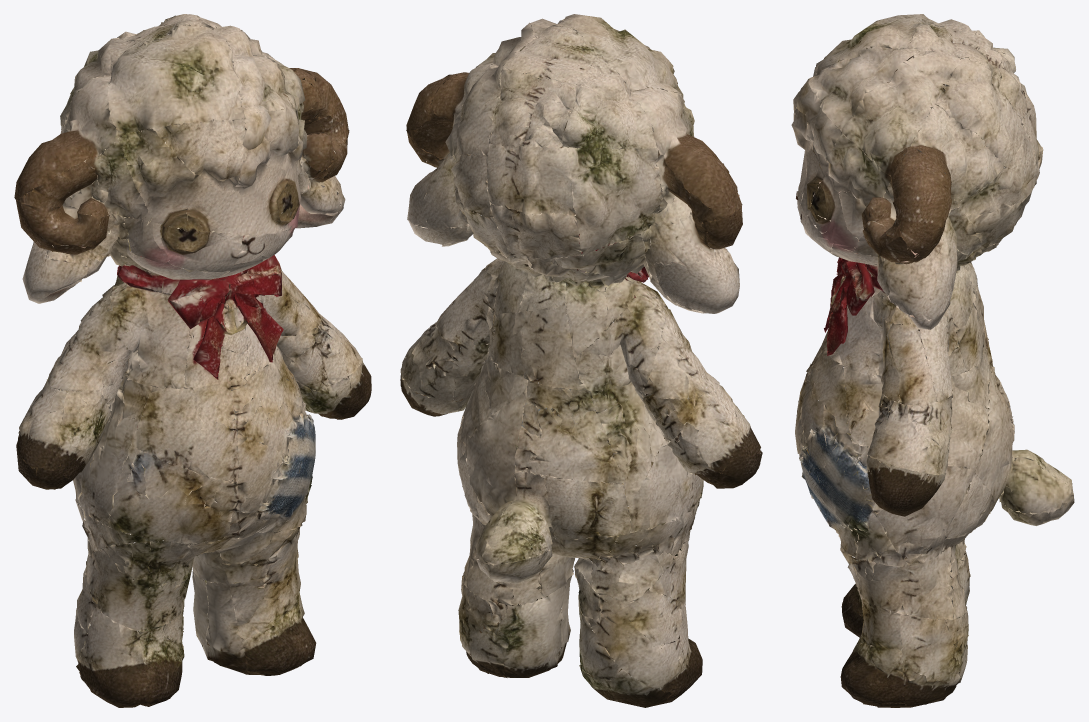
The model's file is agnello_calmo.glb.
3 views of the same model, side by side, from view 1: azimuth 30°, elevation 25°; view 2: azimuth 150°, elevation 25°; view 3: azimuth 270°, elevation 25° (orthographic). The views are drawn at different scales.
Visible parts, largest first — view 1: agnello_calmo; view 2: agnello_calmo; view 3: agnello_calmo.
Part boxes in pixels (x1,y1,x2,y2): agnello_calmo: (14,14,371,707); agnello_calmo: (400,14,762,707); agnello_calmo: (791,14,1074,707).
Bounding box in the file's own units: 0.6786 × 1.2 × 0.4828.
1 material, 1 textured.
